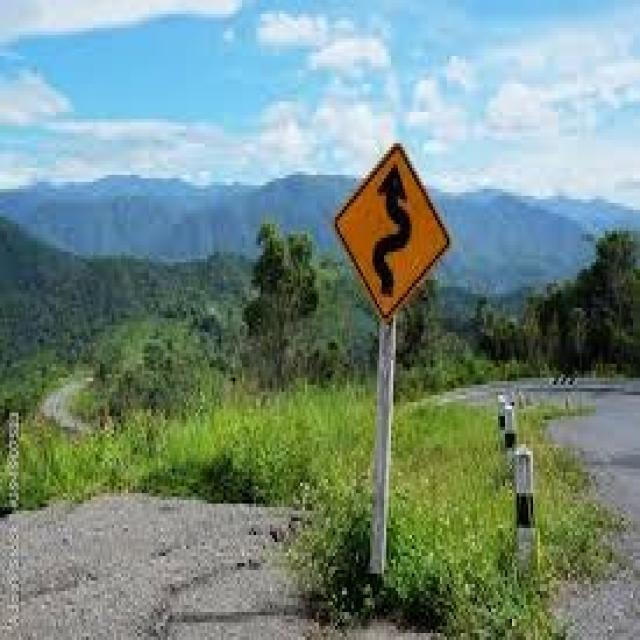left_sharp_curve: (331, 136, 456, 322)
